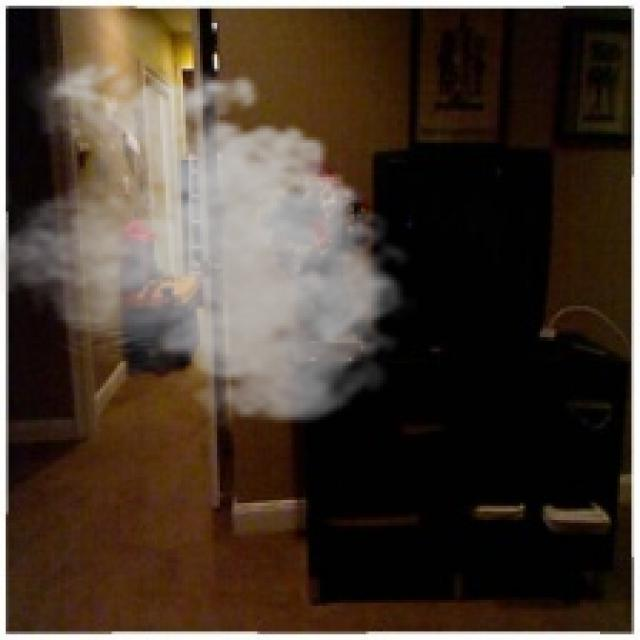smoke: (0, 49, 417, 432)
